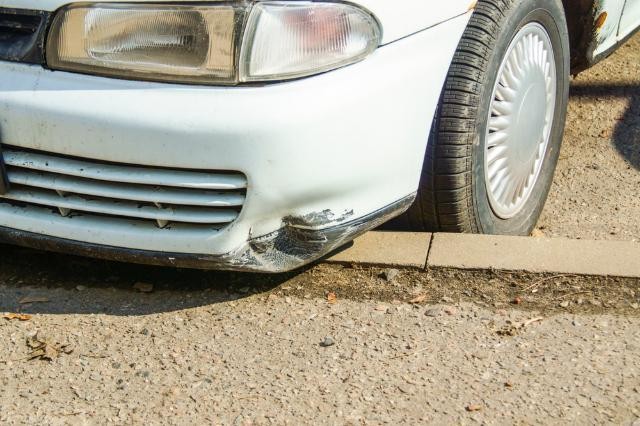dent: (228, 183, 353, 272)
